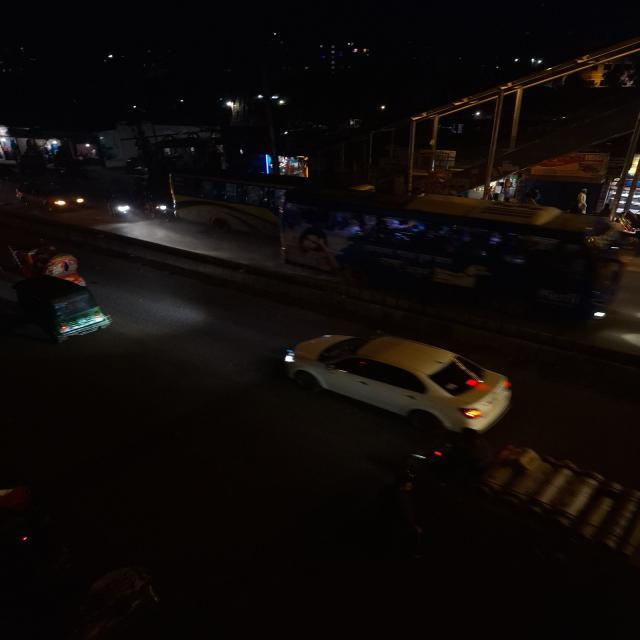bus: (276, 186, 613, 316)
car: (277, 327, 518, 439), (13, 180, 90, 213)
cng: (28, 274, 120, 345)
motorcycle: (106, 191, 133, 223)
